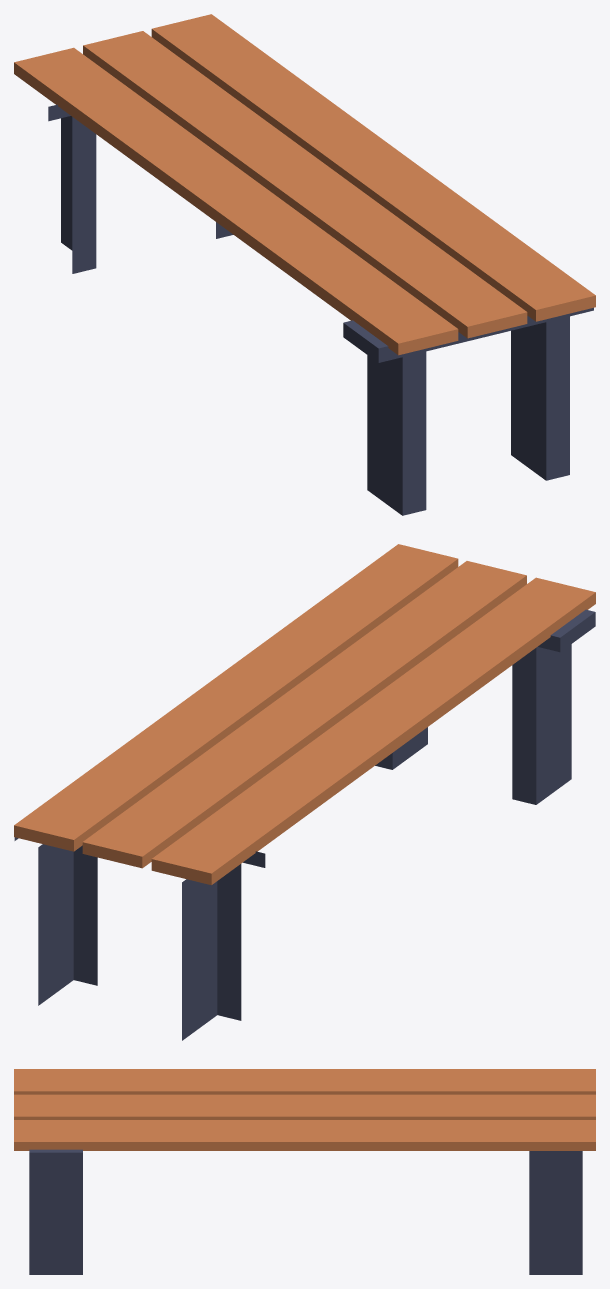
Rendered from bancodejardim.fbx.
3 renders of one model, top to bottom at view 1: azimuth 30°, elevation 25°; view 2: azimuth 150°, elevation 25°; view 3: azimuth 270°, elevation 25°, orthographic. The views are drawn at different scales.
Parts seen in each view (by area): view 1: Cube.028; view 2: Cube.028; view 3: Cube.028.
Boxes of the visible parts, x1=… form: Cube.028: x1=14, y1=14, x2=595, y2=515; Cube.028: x1=14, y1=544, x2=595, y2=1040; Cube.028: x1=14, y1=1069, x2=595, y2=1274.
Size of the model in its own units: 117 by 94.88 by 361.
